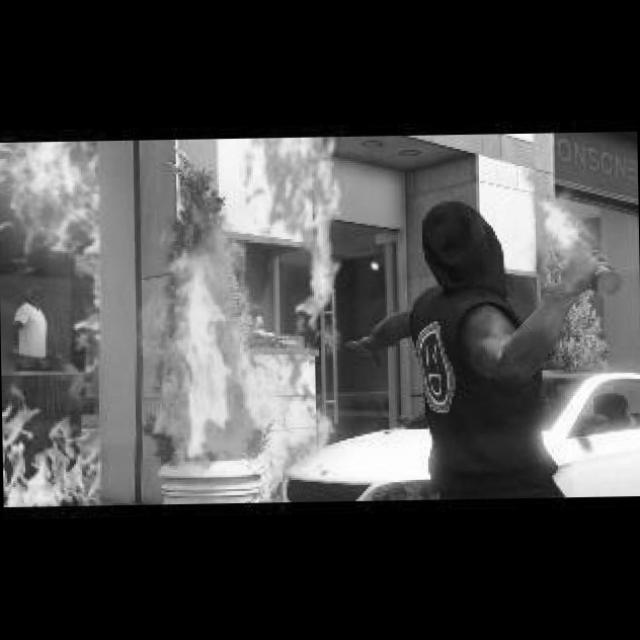fire: (0, 139, 112, 504), (134, 210, 292, 450), (244, 136, 340, 336), (516, 156, 610, 266), (250, 408, 338, 500)
